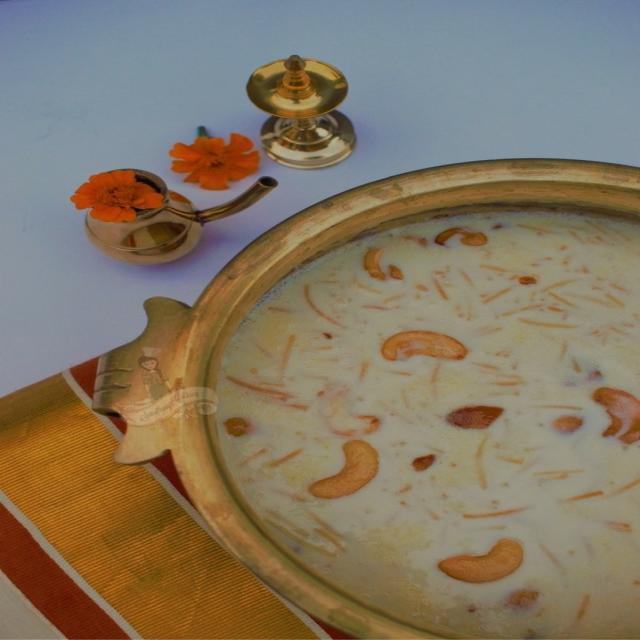shavige payasa: (187, 179, 640, 640)
